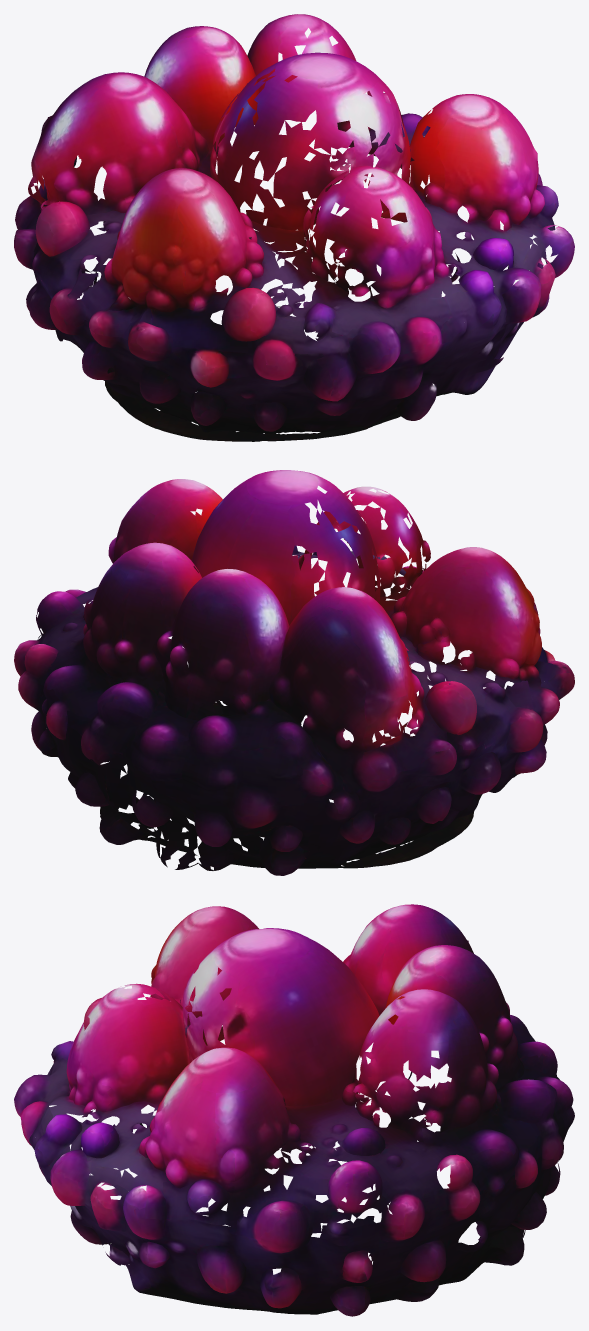
The model's file is prop_eggs.glb.
3 views of the same model, one above another, from view 1: azimuth 30°, elevation 25°; view 2: azimuth 150°, elevation 25°; view 3: azimuth 270°, elevation 25° (orthographic). The views are drawn at different scales.
Visible parts, largest first — view 1: geometry_0.028; view 2: geometry_0.028; view 3: geometry_0.028.
Boxes of the visible parts, x1,y1,x2,y2 form: geometry_0.028: [14, 14, 574, 441]; geometry_0.028: [14, 470, 574, 875]; geometry_0.028: [14, 904, 574, 1316].
Bounding box in the file's own units: 1 × 0.6201 × 0.9883.
Materials: 1 (1 with a texture image).
